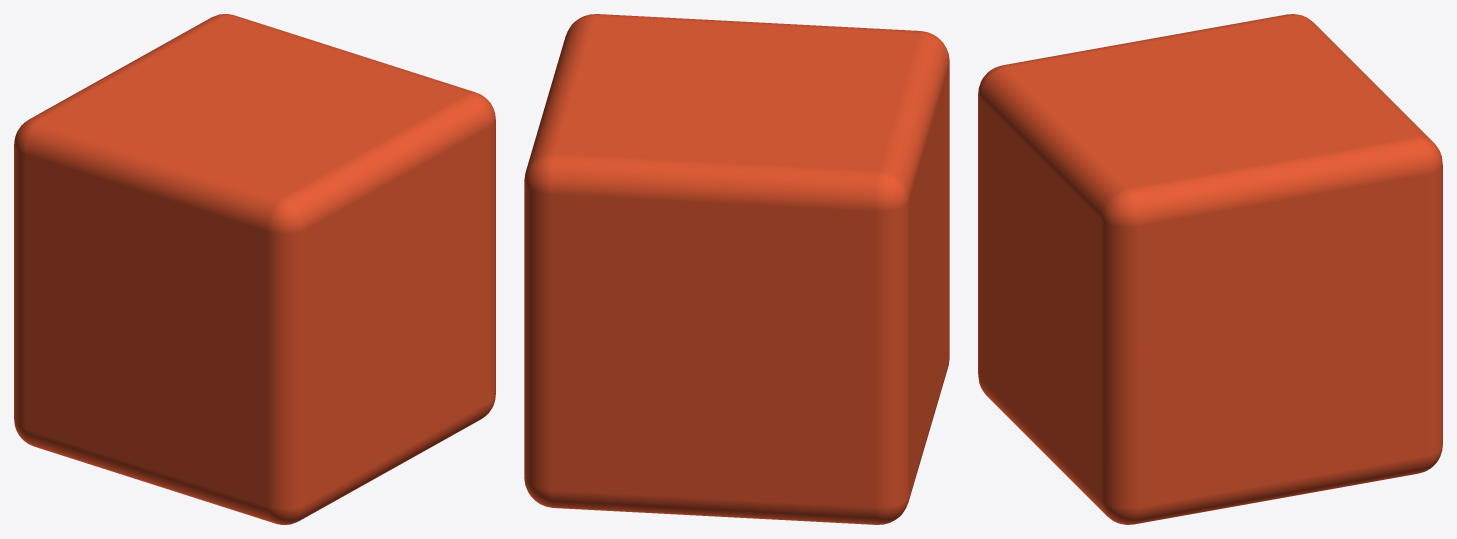
3 renders of one model, left to right at view 1: azimuth 30°, elevation 25°; view 2: azimuth 150°, elevation 25°; view 3: azimuth 270°, elevation 25°, orthographic. The views are drawn at different scales.
Parts seen in each view (by area): view 1: cube; view 2: cube; view 3: cube.
Part boxes in pixels (x1,y1,x2,y2): cube: (14, 14, 495, 524); cube: (524, 14, 949, 524); cube: (978, 14, 1442, 524).
Size of what is drawn, in the model's own units: 1.26 by 1 by 1.26.
